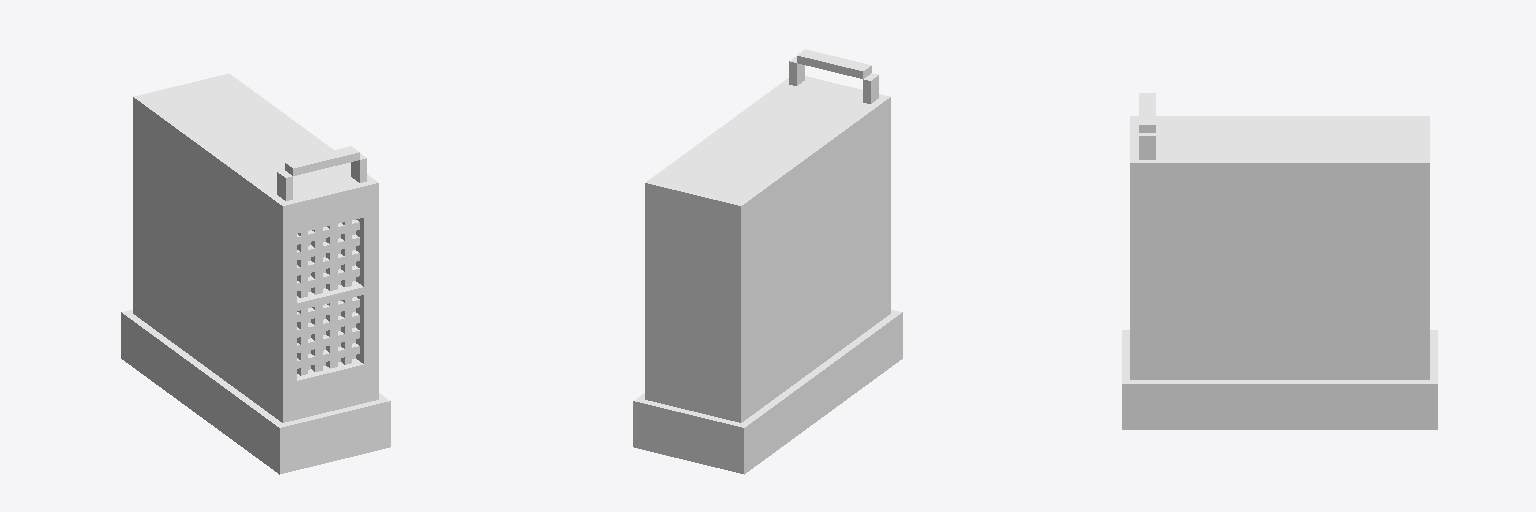
Rendered from desktop-pc-close.obj.
3 renders of one model, left to right at view 1: azimuth 30°, elevation 25°; view 2: azimuth 150°, elevation 25°; view 3: azimuth 270°, elevation 25°, orthographic.
Parts seen in each view (by area): view 1: object 1; view 2: object 1; view 3: object 1.
Boxes of the visible parts, <box> form: object 1: <box>121,73,390,474</box>; object 1: <box>633,49,902,474</box>; object 1: <box>1122,93,1437,429</box>.
Bounding box in the file's own units: 1.5 × 3.8 × 3.7.